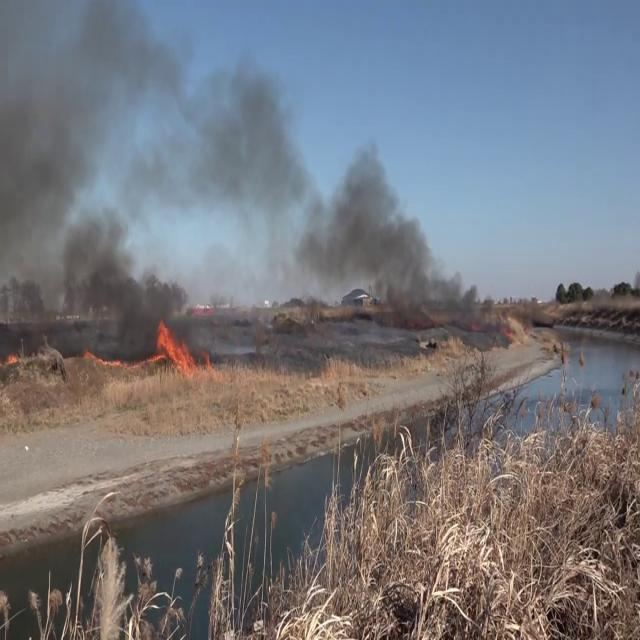Fire: (152, 315, 199, 377)
Smoke: (197, 39, 470, 346), (0, 0, 256, 322)
